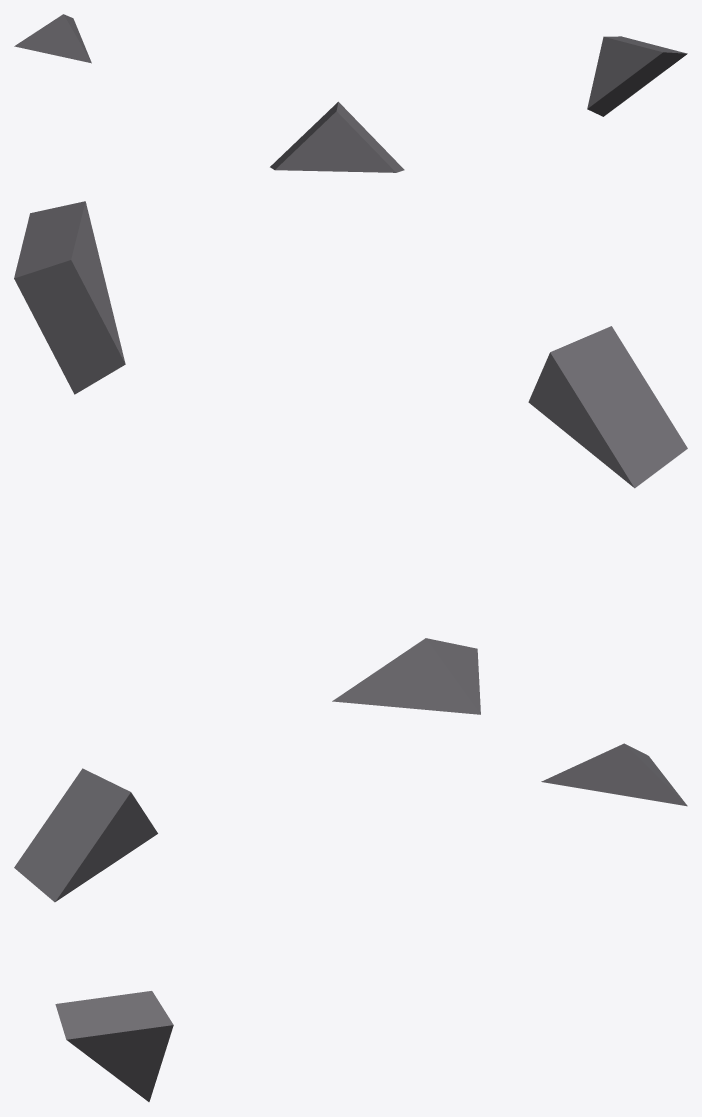
Rendered from Rocks_Sharp_s_06.fbx.
3 views of the same model, one above another, from view 1: azimuth 30°, elevation 25°; view 2: azimuth 150°, elevation 25°; view 3: azimuth 270°, elevation 25° (orthographic). The views are drawn at different scales.
Visible parts, largest first — view 1: Rocks_Sharp_s_06; view 2: Rocks_Sharp_s_06; view 3: Rocks_Sharp_s_06.
Boxes of the visible parts, x1=… form: Rocks_Sharp_s_06: x1=14, y1=14, x2=687, y2=172; Rocks_Sharp_s_06: x1=14, y1=201, x2=687, y2=714; Rocks_Sharp_s_06: x1=14, y1=743, x2=687, y2=1101.
Bounding box in the file's own units: 74.55 × 14.27 × 65.43.
